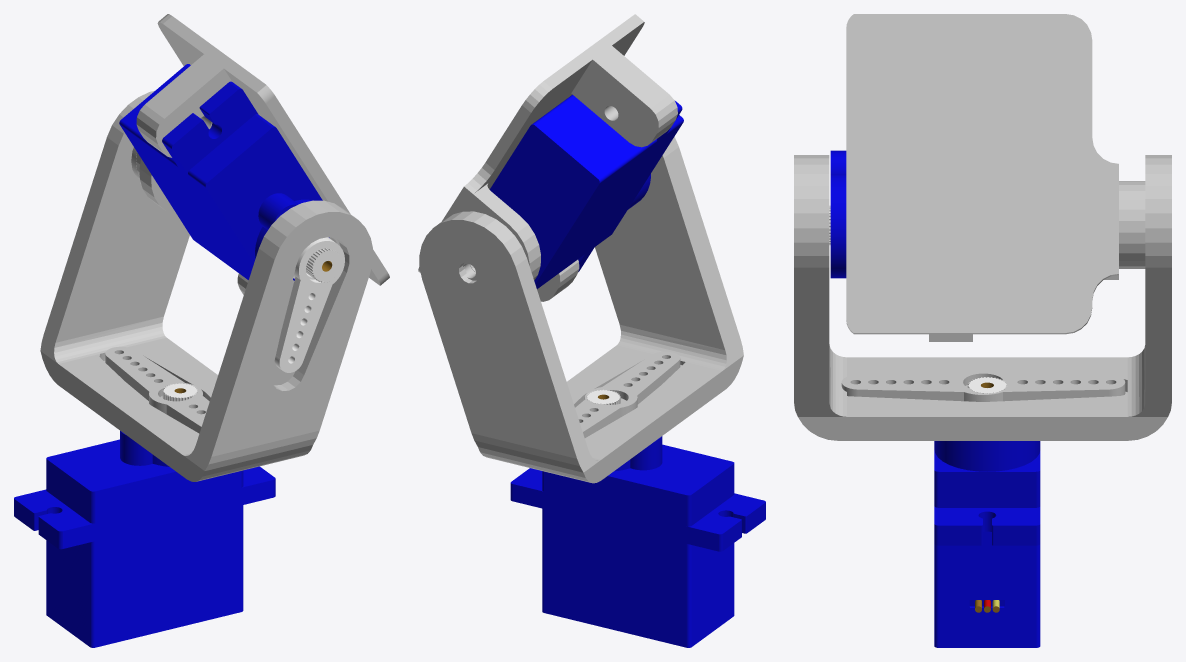
The model's file is pan_tilt.glb.
The picture shows the model from 3 angles, left to right: view 1: azimuth 30°, elevation 25°; view 2: azimuth 150°, elevation 25°; view 3: azimuth 270°, elevation 25°; orthographic projection. The views are drawn at different scales.
Parts seen in each view (by area): view 1: part_2, Body2, Body2_1, part_1; view 2: part_2, Body2, Body2_1, part_1; view 3: part_1, part_2, Body2, Body2_1.
Part boxes in pixels (x1,y1,x2,y2): part_2: [40, 90, 372, 481]; Body2: [14, 383, 275, 647]; Body2_1: [119, 64, 342, 282]; part_1: [131, 14, 389, 294]; part_2: [419, 137, 743, 483]; Body2: [510, 389, 765, 647]; Body2_1: [489, 94, 683, 288]; part_1: [418, 14, 677, 301]; part_1: [846, 14, 1145, 341]; part_2: [794, 155, 1171, 440]; Body2: [934, 377, 1040, 647]; Body2_1: [829, 150, 846, 278].
Size of the model in its own units: 43.32 by 78.22 by 42.75.
